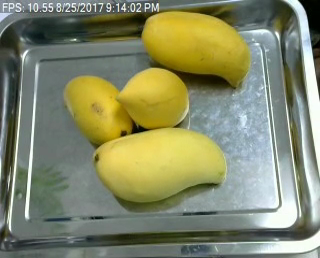Mango: (95, 125, 226, 208), (141, 6, 253, 92), (62, 74, 133, 144), (117, 67, 194, 130)
